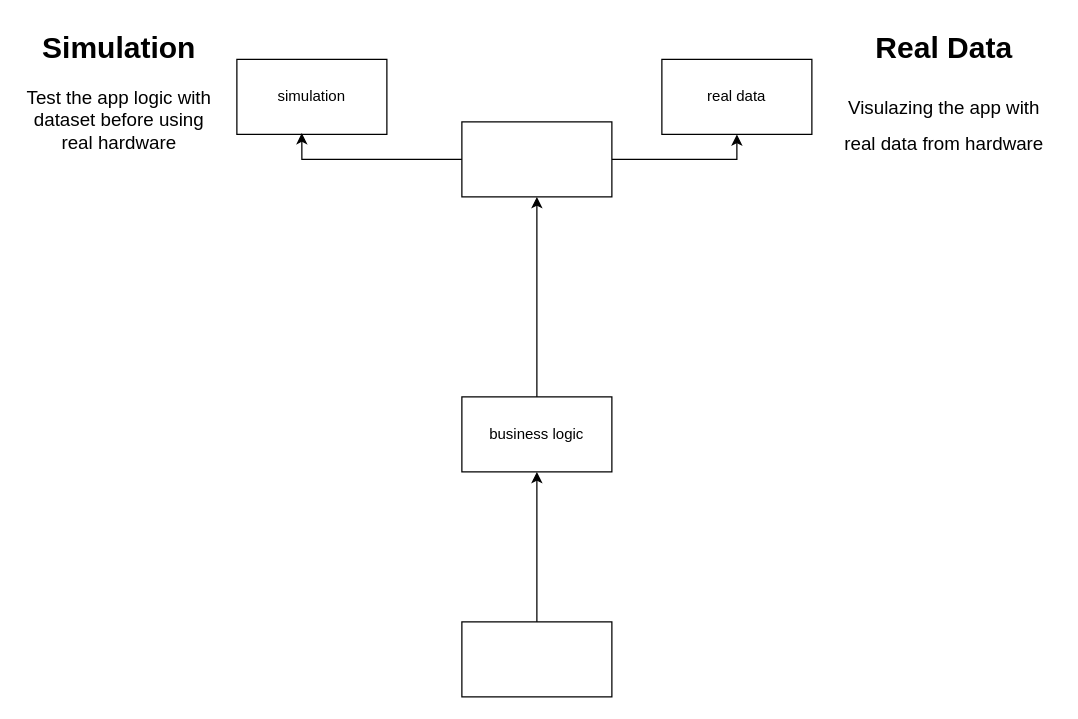
Some shapes in this 1078 by 719 pixel diagram are drawn without their labels. Here are the shapes that lost their labels. From the top down, the box of each, then its label:
(461, 121, 612, 197): UI
(461, 621, 612, 697): data
